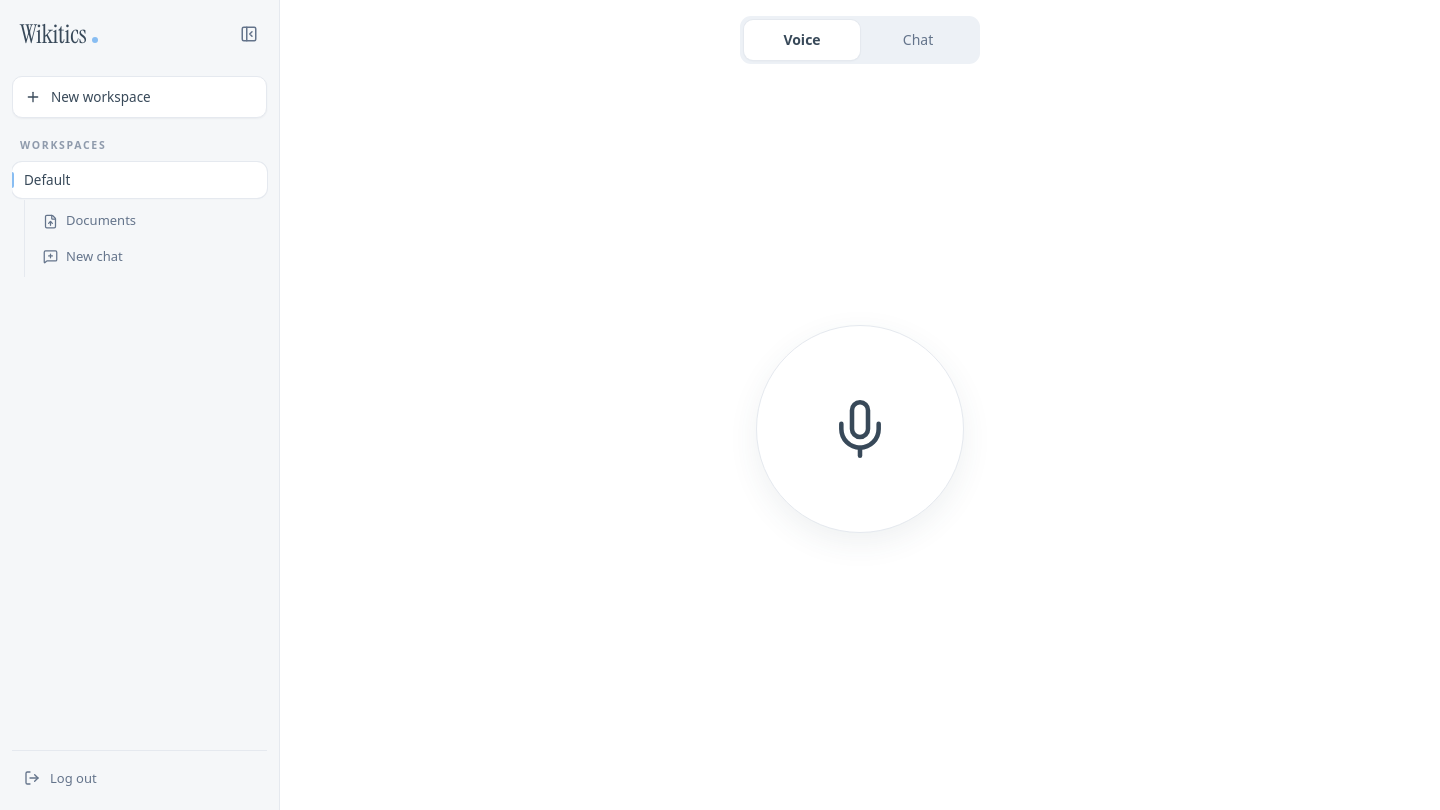
Test: App › submits a chat question
Click the button "Chat".
click(918, 40)  # box [860, 20, 976, 60]
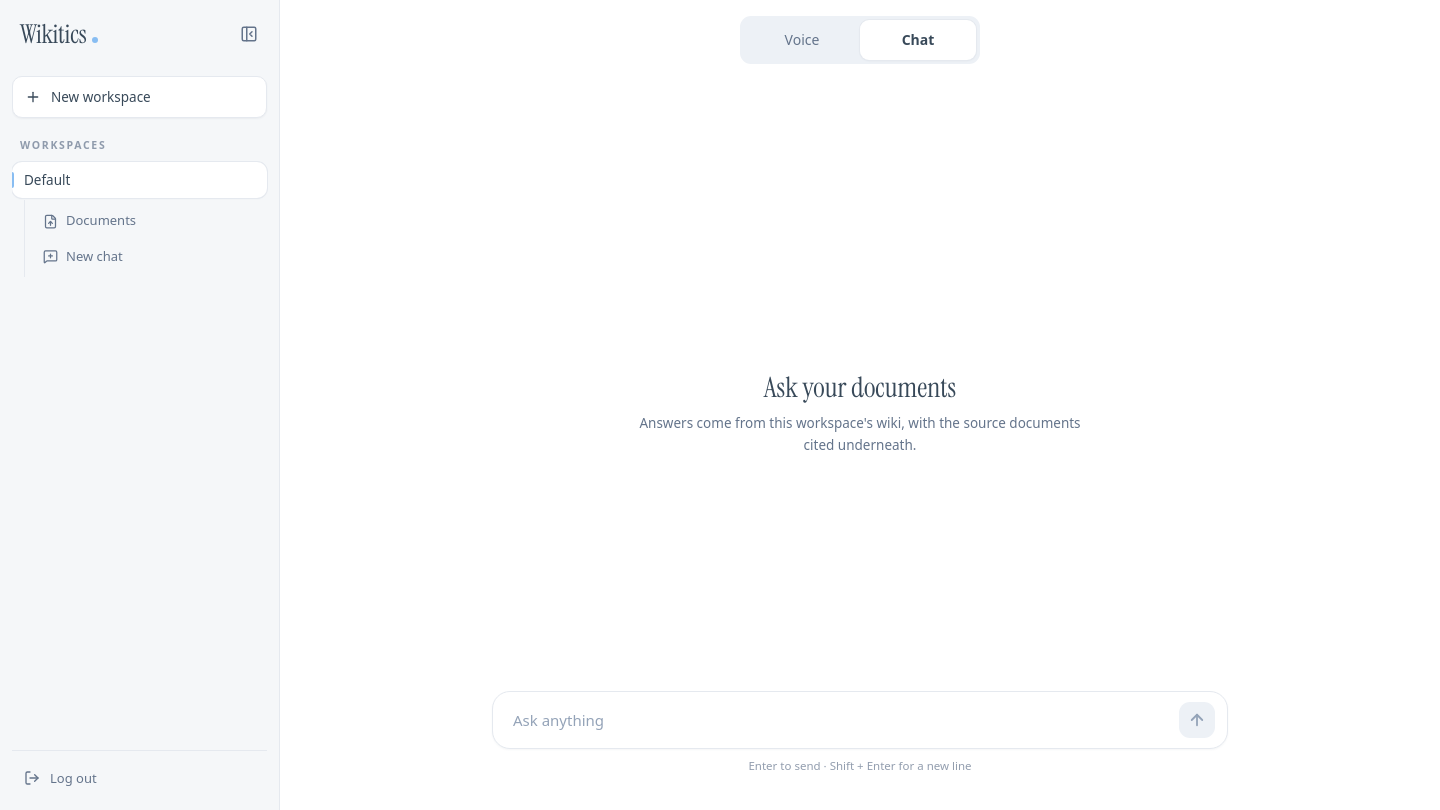
Type "Penalty?" into the text box labelled "Ask".
click(838, 720); type("Penalty?")  # box [505, 702, 1171, 738]
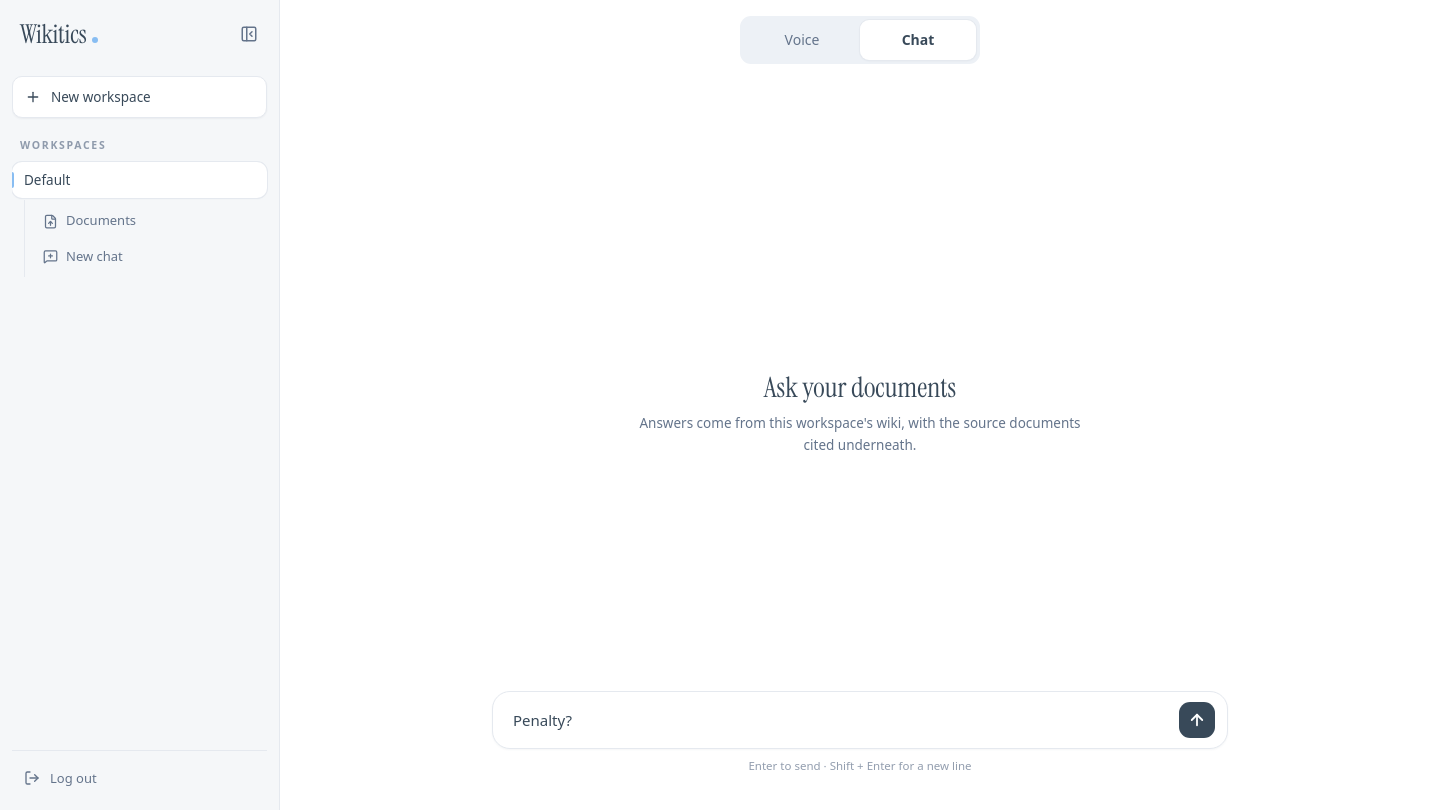
Click the button titled "Send".
click(1197, 720)  # box [1179, 702, 1215, 738]
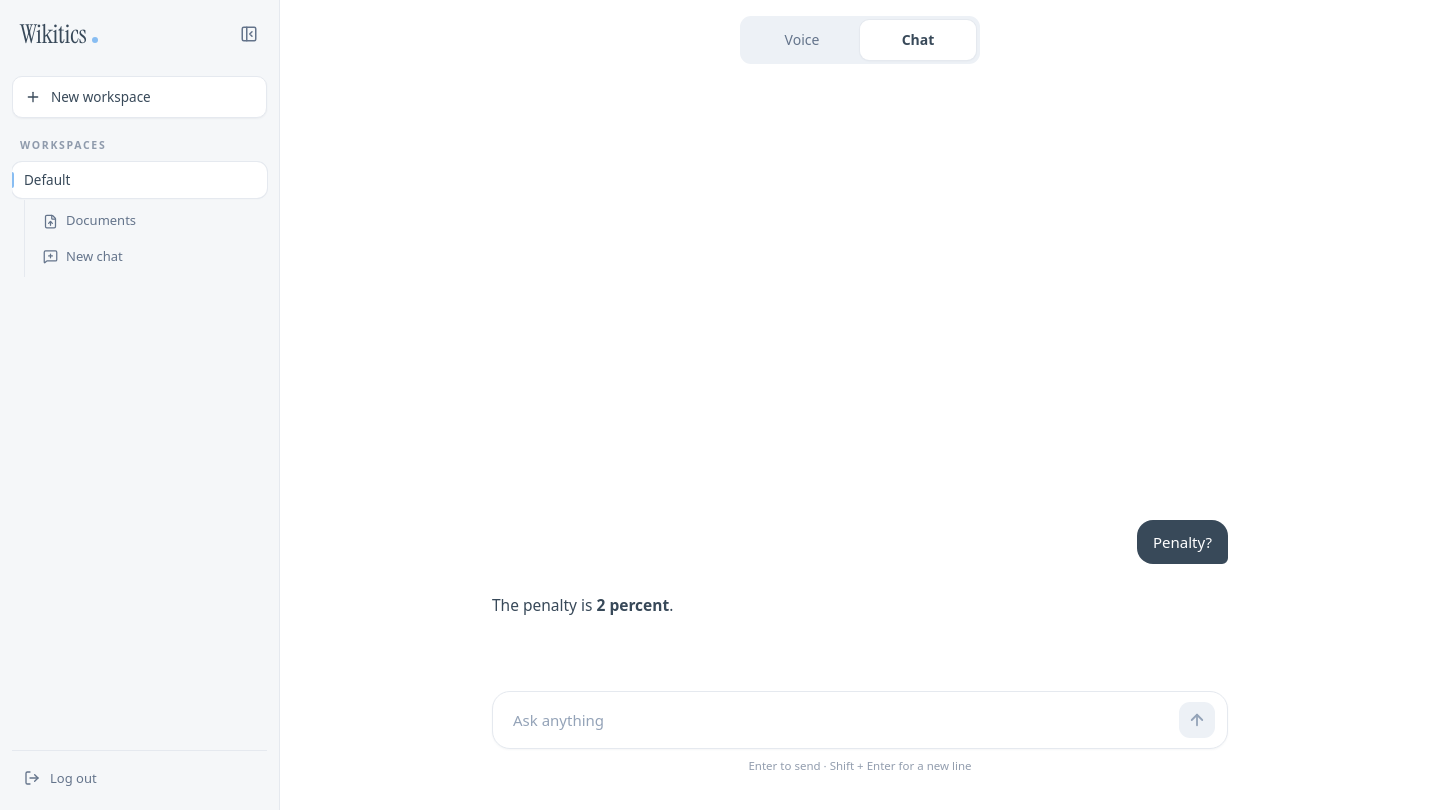
Expected: the text "The penalty is" is shown, [492, 594, 596, 616]
